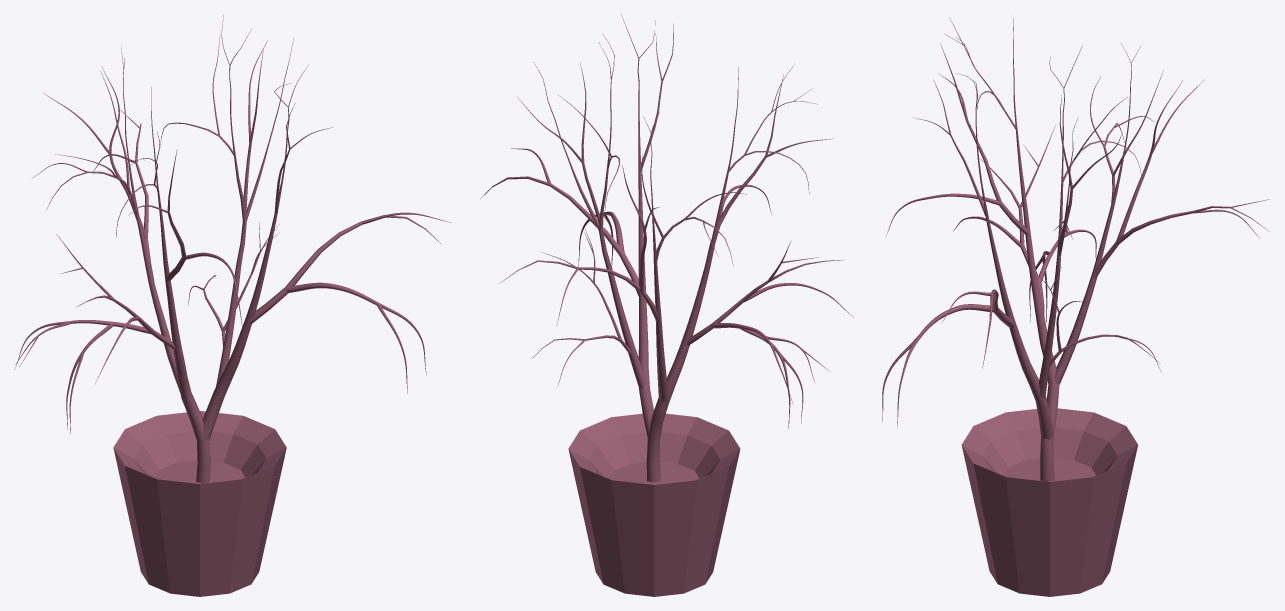
File: PotPlante.fbx
The picture shows the model from 3 angles, left to right: view 1: azimuth 30°, elevation 25°; view 2: azimuth 150°, elevation 25°; view 3: azimuth 270°, elevation 25°; orthographic projection. The views are drawn at different scales.
Parts seen in each view (by area): view 1: Cylinder.004; view 2: Cylinder.004; view 3: Cylinder.004.
Boxes of the visible parts, <box> form: Cylinder.004: <box>14,15,451,596</box>; Cylinder.004: <box>480,14,853,596</box>; Cylinder.004: <box>882,17,1269,596</box>.
Size of the model in its own units: 309 by 408 by 263.
